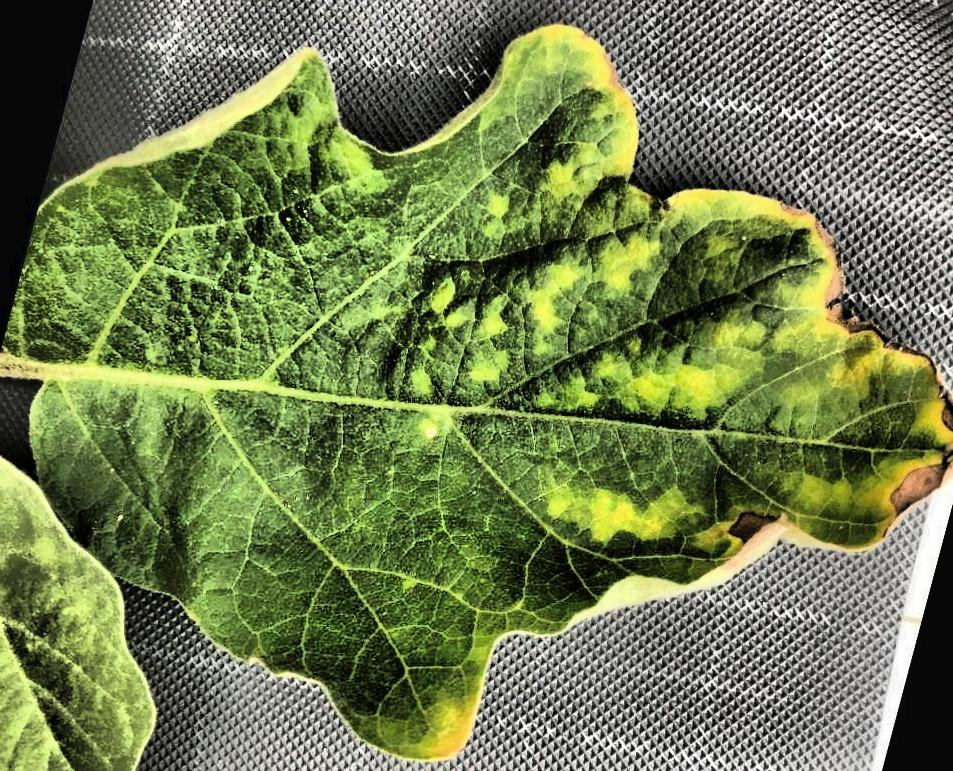Non-critical Stress: (0, 1, 953, 771)
